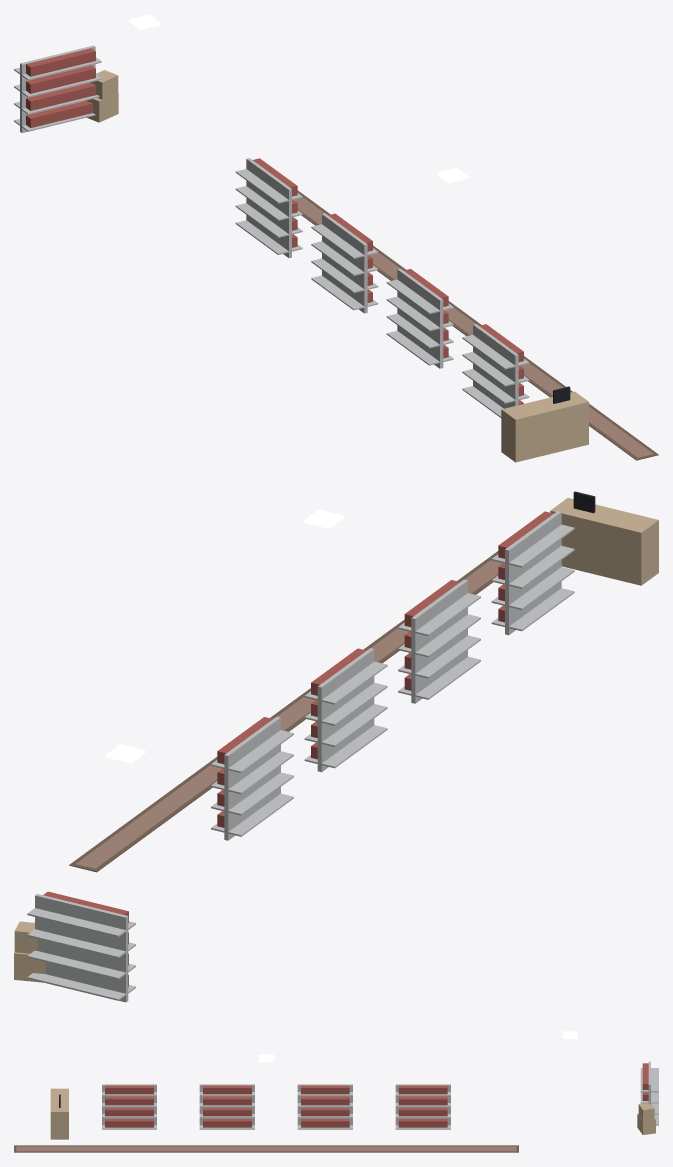
Rendered from fine-s0.glb.
The picture shows the model from 3 angles, top to bottom: view 1: azimuth 30°, elevation 25°; view 2: azimuth 150°, elevation 25°; view 3: azimuth 270°, elevation 25°; orthographic projection. The views are drawn at different scales.
Parts seen in each view (by area): view 1: shelving.000, shop-counter.000, shelf.002, shelf.000, shelf.001, shelf.003, soft-s0, cardboard-box.000; view 2: shelving.000, shelf.001, shelf.003, shelf.000, shelf.002, shop-counter.000, soft-s0, cardboard-box.000; view 3: soft-s0, shelf.000, shelf.001, shelf.002, shelf.003, shop-counter.000, shelving.000, cardboard-box.000.
Boxes of the visible parts, x1,y1,x2,y2 form: shelving.000: (14,45,101,132); shop-counter.000: (501,386,588,462); shelf.002: (386,268,453,368); shelf.000: (235,158,302,258); shelf.001: (311,213,378,313); shelf.003: (462,324,529,417); soft-s0: (294,190,658,460); cardboard-box.000: (86,70,118,122); shelving.000: (27,891,135,1002); shelf.001: (304,648,387,772); shelf.003: (491,511,574,635); shelf.000: (211,716,293,840); shelf.002: (398,579,480,703); shop-counter.000: (550,491,658,585); soft-s0: (69,551,502,872); cardboard-box.000: (14,921,45,982); soft-s0: (14,1145,518,1152); shelf.000: (395,1084,450,1129); shelf.001: (297,1084,352,1129); shelf.002: (199,1084,254,1129); shelf.003: (102,1084,156,1129); shop-counter.000: (50,1088,68,1139); shelving.000: (640,1061,658,1125); cardboard-box.000: (637,1103,655,1134).
Bounding box in the file's own units: 3.62 × 3.29 × 21.07.
